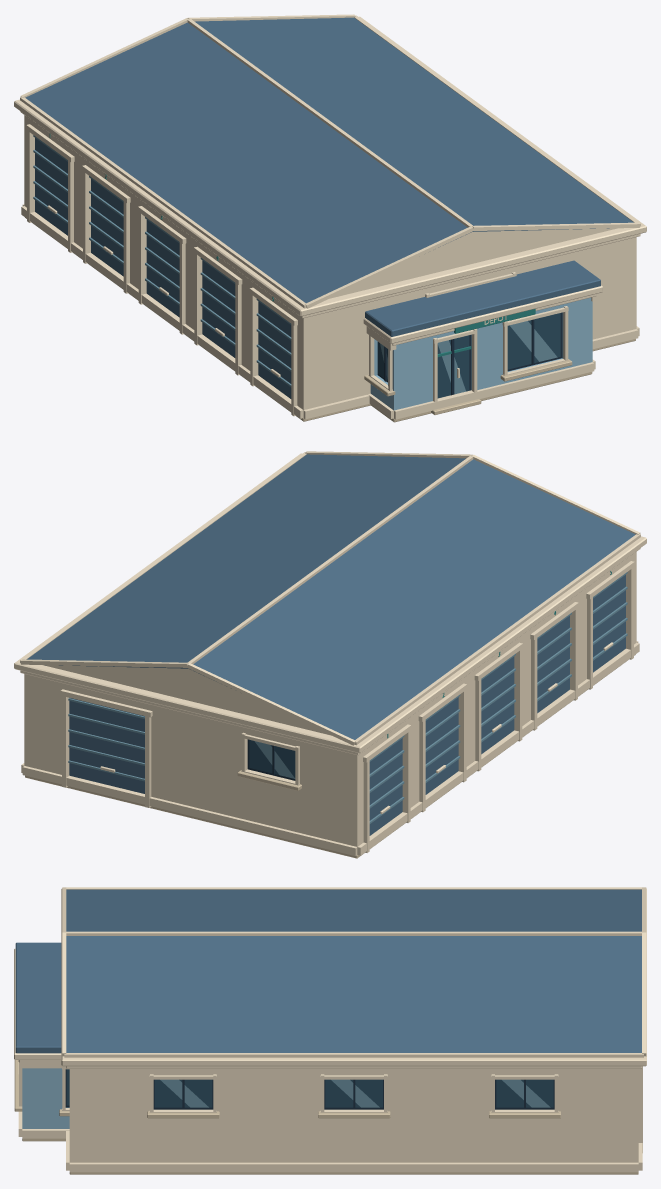
File: long_loading_warehouse.glb
3 renders of one model, top to bottom at view 1: azimuth 30°, elevation 25°; view 2: azimuth 150°, elevation 25°; view 3: azimuth 270°, elevation 25°, orthographic.
Parts seen in each view (by area): view 1: LongLoadingWarehouse_StaticMesh; view 2: LongLoadingWarehouse_StaticMesh; view 3: LongLoadingWarehouse_StaticMesh.
Part boxes in pixels (x1,y1,x2,y2): LongLoadingWarehouse_StaticMesh: (14, 14, 646, 422); LongLoadingWarehouse_StaticMesh: (14, 451, 646, 858); LongLoadingWarehouse_StaticMesh: (14, 887, 646, 1174).
Size of the model in its own units: 12.92 by 5.58 by 20.02.
